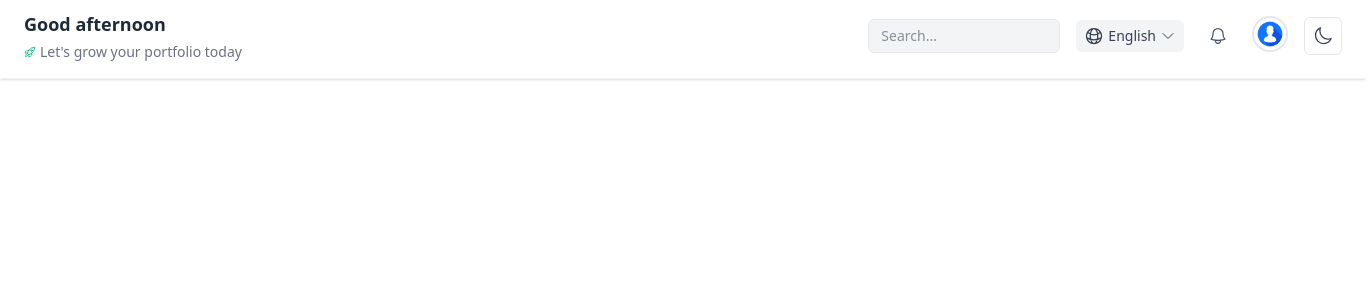
Test: Topbar › opens the language dropdown and selects a language
Click the button with aria-label "Language" at (1130, 36), box [1076,20,1184,52]
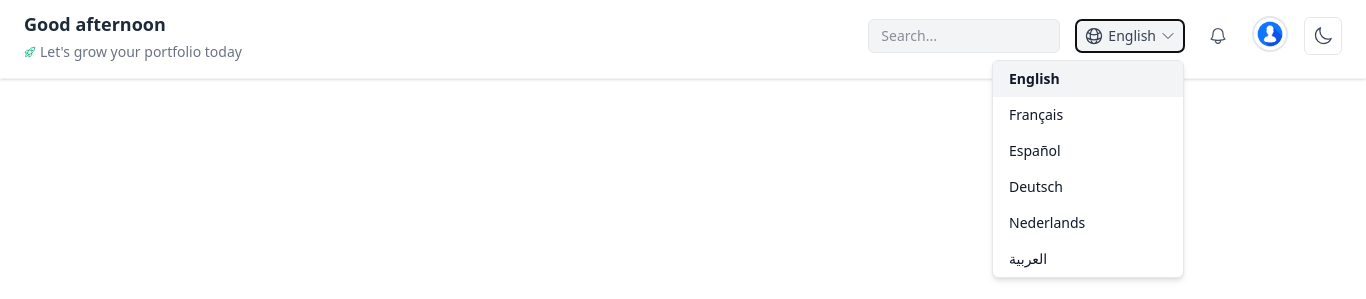
Expected: the option "Deutsch" is shown, [993,169,1183,205]
Expected: the option "Nederlands" is shown, [993,205,1183,241]
Expected: the option "العربية" is shown, [993,241,1183,277]
Click the option "Français" at (1088, 115), box [993,97,1183,133]
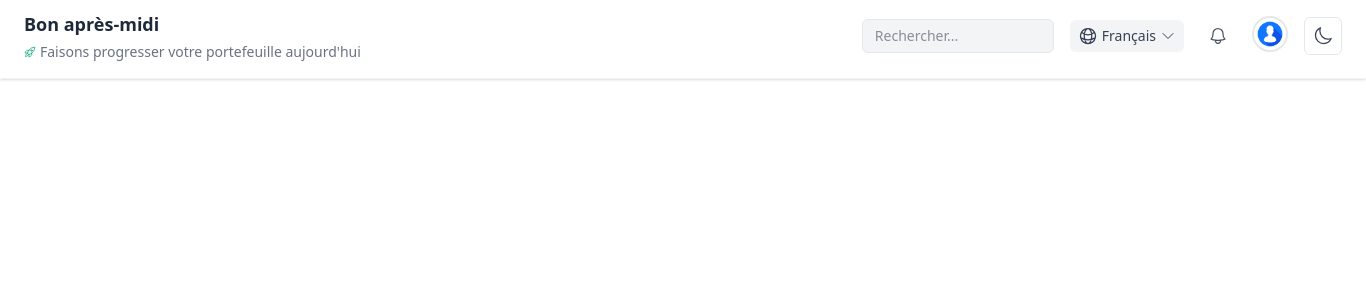
Expected: the button "English" is gone
Expected: the button with aria-label "Langue" is shown, [1070,20,1184,52]
